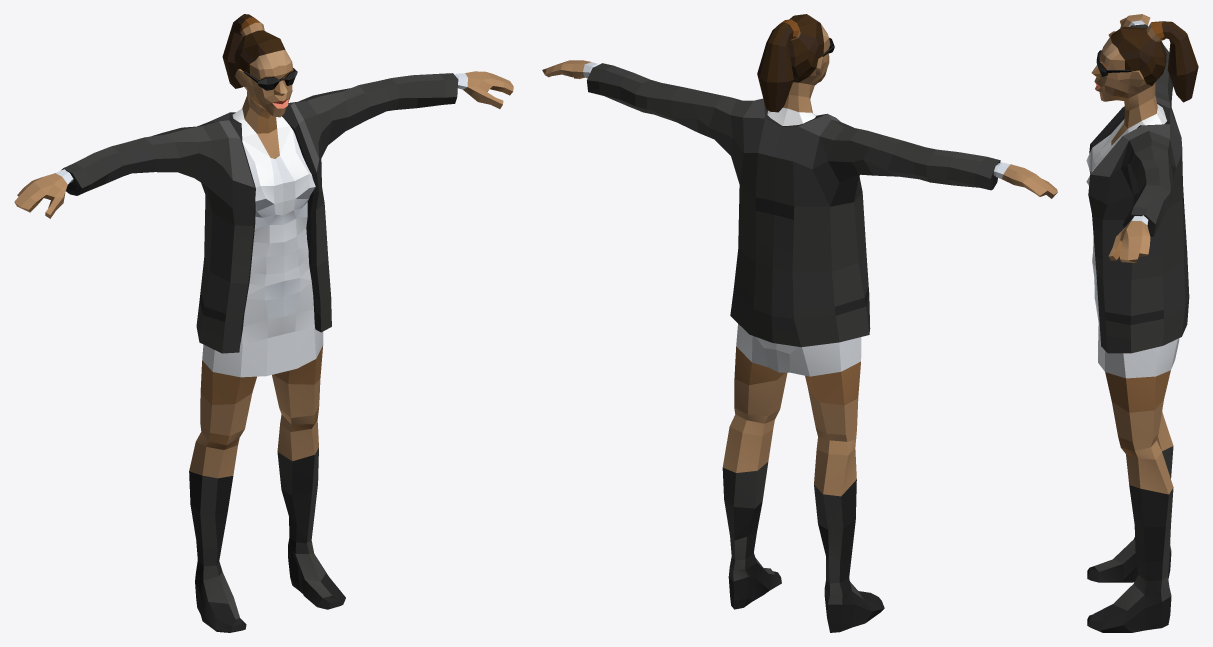
Rendered from casual_Female_J-model.obj.
3 views of the same model, side by side, from view 1: azimuth 30°, elevation 25°; view 2: azimuth 150°, elevation 25°; view 3: azimuth 270°, elevation 25° (orthographic). The views are drawn at different scales.
Parts seen in each view (by area): view 1: casual_Female_J, acc_coat; view 2: acc_coat, casual_Female_J; view 3: casual_Female_J, acc_coat.
Part boxes in pixels (bbox=[...]): casual_Female_J: bbox=[14, 14, 513, 632]; acc_coat: bbox=[61, 73, 458, 353]; acc_coat: bbox=[587, 63, 1000, 347]; casual_Female_J: bbox=[542, 14, 1057, 632]; casual_Female_J: bbox=[1086, 14, 1198, 632]; acc_coat: bbox=[1088, 24, 1189, 353].
Bounding box in the file's own units: 154 × 172 × 30.05.
